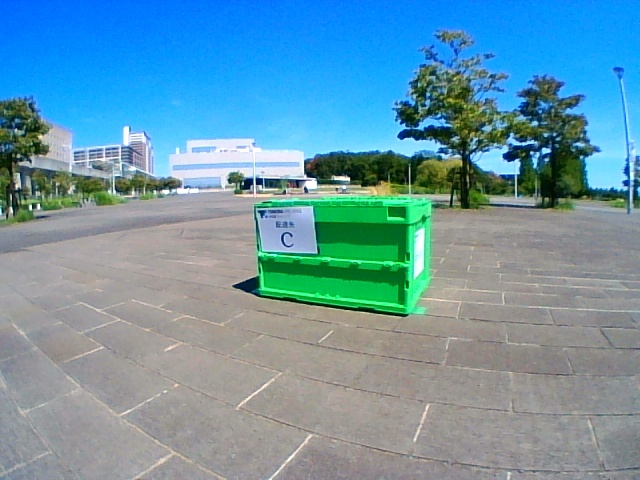green_box: (254, 197, 431, 315)
tag_c: (263, 211, 312, 251)
